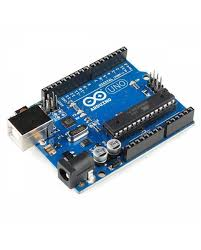arduino: (1, 38, 197, 203)
